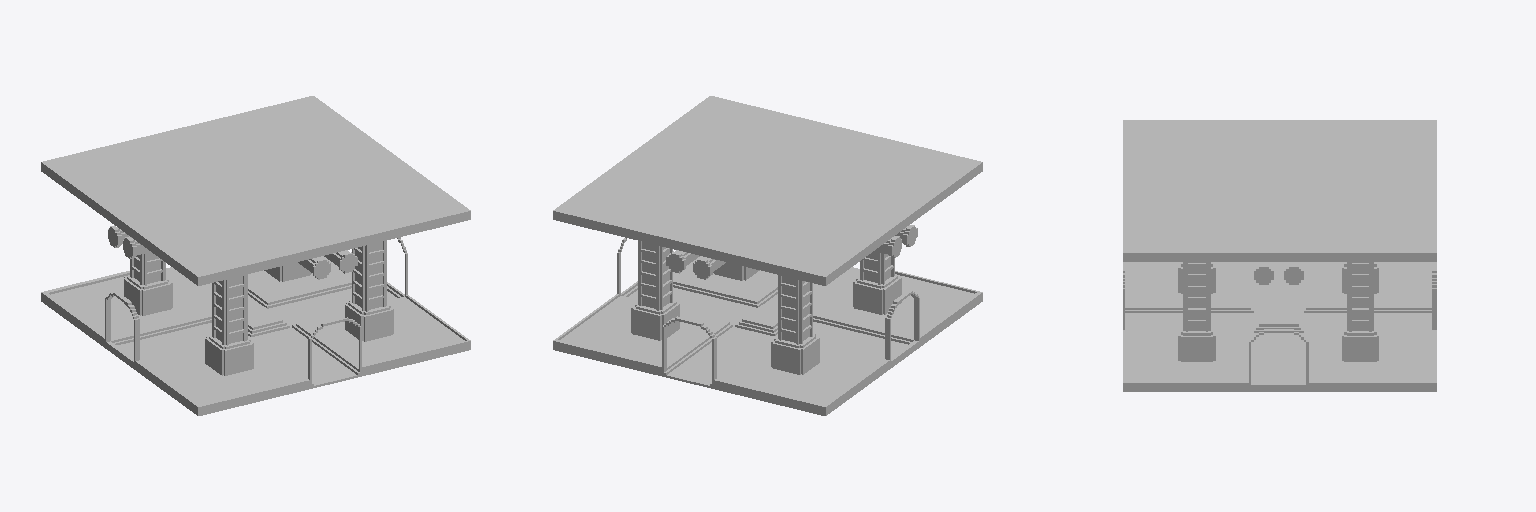
Rendered from Perk Room.obj.
3 views of the same model, side by side, from view 1: azimuth 30°, elevation 25°; view 2: azimuth 150°, elevation 25°; view 3: azimuth 270°, elevation 25° (orthographic).
Bounding box in the file's own units: 125 × 61 × 125.